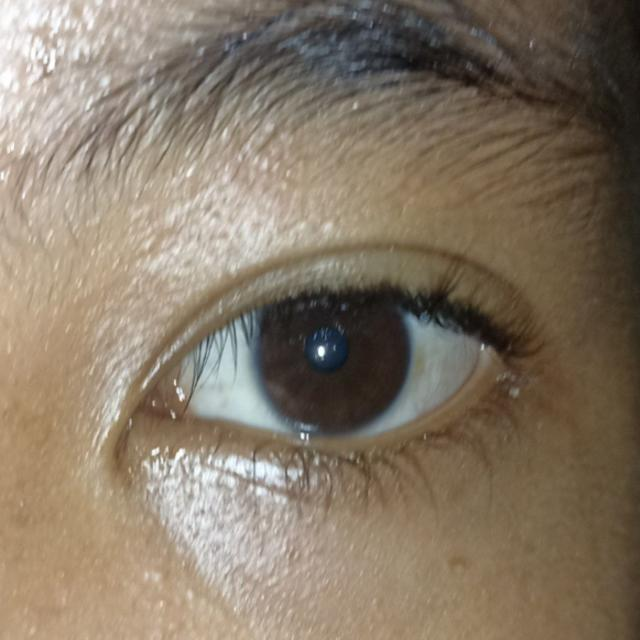Normal: (256, 269, 407, 435)
